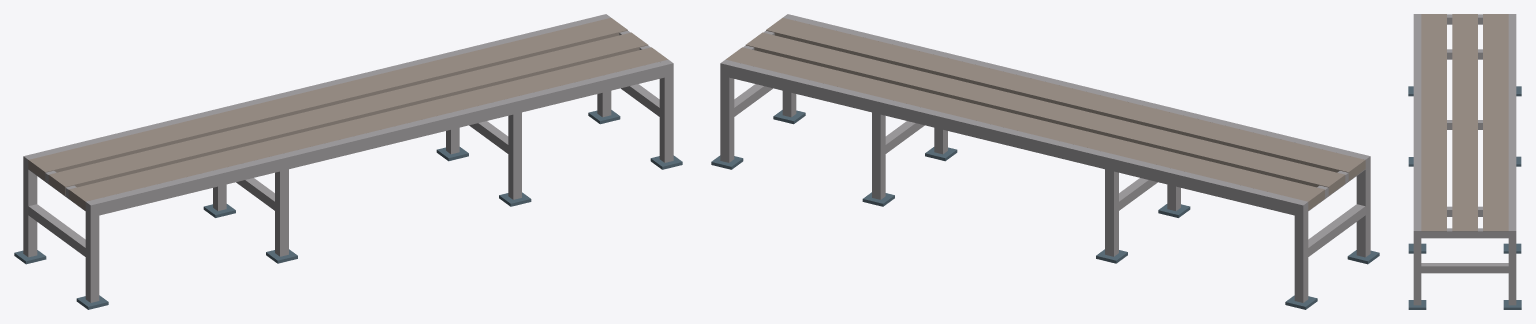
The model's file is locker_room_bench_15049.glb.
The picture shows the model from 3 angles, left to right: view 1: azimuth 30°, elevation 25°; view 2: azimuth 150°, elevation 25°; view 3: azimuth 270°, elevation 25°; orthographic projection. The views are drawn at different scales.
Parts seen in each view (by area): view 1: part_15076, part_15080, part_15085, part_15078, part_15081, part_15060, part_15106, part_15067, part_15091, part_15050, part_15055, part_15097 (+2 smaller); view 2: part_15080, part_15078, part_15076, part_15081, part_15085, part_15050, part_15112, part_15071, part_15098, part_15060, part_15055, part_15097 (+2 smaller); view 3: part_15080, part_15078, part_15076, part_15085, part_15081, part_15111, part_15117, part_15112, part_15106, part_15104, part_15102, part_15095 (+5 smaller).
Boxes of the visible parts, x1,y1,x2,y2 form: part_15076: (28, 18, 627, 180); part_15080: (48, 32, 647, 195); part_15085: (85, 61, 673, 217); part_15078: (68, 47, 667, 210); part_15081: (23, 16, 601, 171); part_15060: (85, 199, 99, 302); part_15106: (659, 59, 673, 162); part_15067: (275, 153, 288, 256); part_15091: (508, 96, 521, 199); part_15050: (23, 154, 37, 257); part_15055: (28, 204, 85, 256); part_15097: (469, 121, 508, 153); part_15080: (746, 32, 1345, 195); part_15078: (766, 17, 1365, 180); part_15076: (726, 47, 1324, 210); part_15081: (729, 61, 1308, 217); part_15085: (791, 16, 1370, 171); part_15050: (1294, 199, 1308, 302); part_15112: (720, 59, 734, 162); part_15071: (1105, 153, 1118, 256); part_15098: (872, 96, 885, 199); part_15060: (1356, 154, 1370, 257); part_15055: (1308, 204, 1365, 256); part_15097: (885, 121, 924, 153); part_15080: (1452, 14, 1477, 231); part_15078: (1421, 14, 1446, 231); part_15076: (1483, 14, 1508, 231); part_15085: (1413, 17, 1421, 227); part_15081: (1508, 17, 1516, 227); part_15111: (1421, 263, 1508, 273); part_15117: (1421, 228, 1508, 238); part_15112: (1508, 227, 1516, 305); part_15106: (1413, 227, 1421, 305); part_15104: (1503, 300, 1521, 309); part_15102: (1408, 300, 1426, 309); part_15095: (1503, 243, 1521, 253).
Size of the model in its own units: 10.2 by 1.65 by 2.2.
